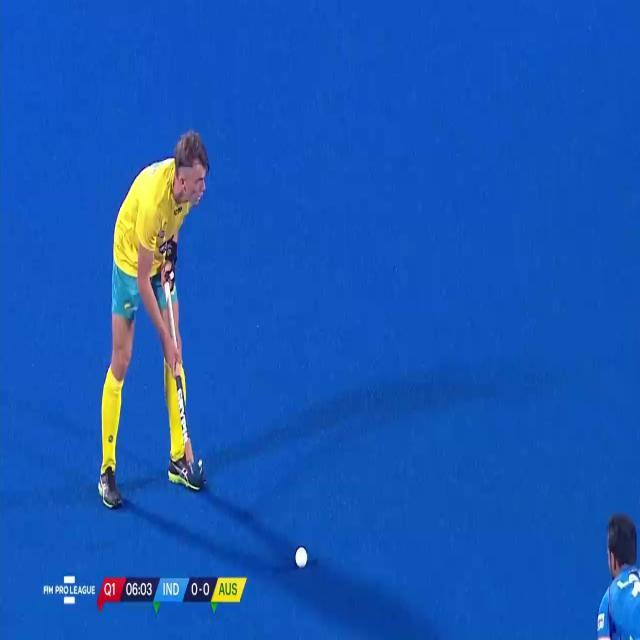ball: (292, 538, 316, 581)
